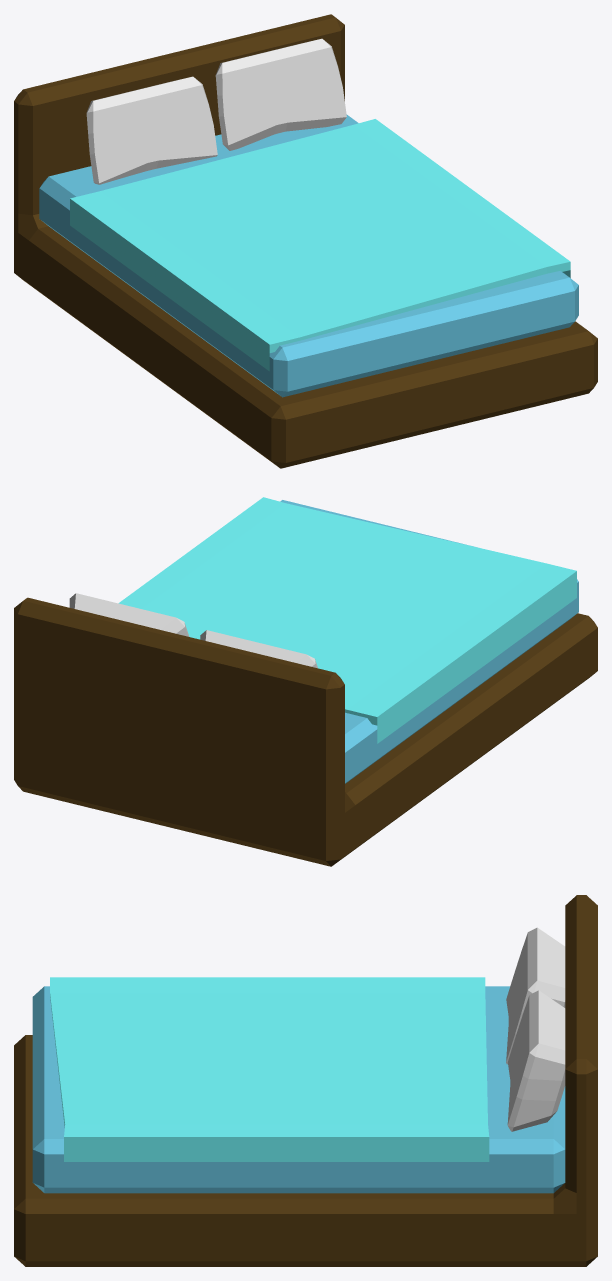
The model's file is Bed.fbx.
The picture shows the model from 3 angles, top to bottom: view 1: azimuth 30°, elevation 25°; view 2: azimuth 150°, elevation 25°; view 3: azimuth 270°, elevation 25°; orthographic projection. The views are drawn at different scales.
Visible parts, largest first — view 1: Bed, Covers, Pillow; view 2: Bed, Covers, Pillow; view 3: Bed, Covers, Pillow.
Part boxes in pixels (x1,y1,x2,y2): Bed: (14,14,597,468); Covers: (70,119,570,371); Pillow: (86,38,346,184); Bed: (14,500,597,866); Covers: (118,497,576,743); Pillow: (69,593,317,668); Bed: (14,895,597,1266); Covers: (50,977,489,1161); Pillow: (506,927,565,1131).
Bounding box in the file's own units: 295 × 165 × 419.
